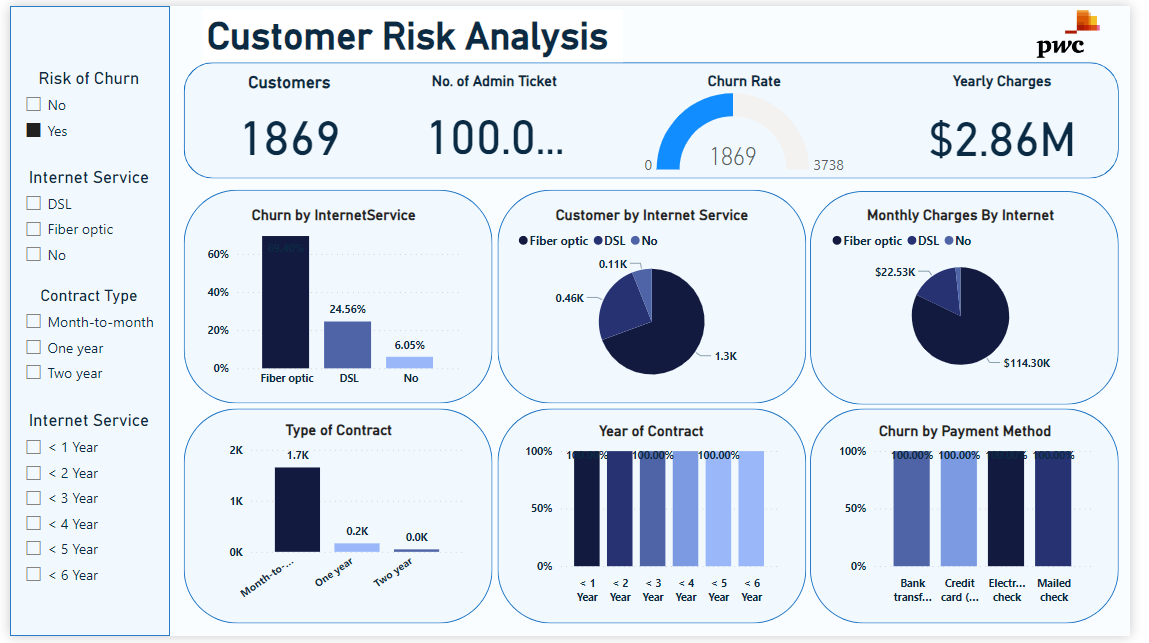

What the dashboard file says about the page in this screenshot:
{"tool":"powerbi","page":{"name":"Customer Risk Analysis","canvas":[1280,720],"ordinal":3},"visuals":[{"type":"shape","box":[198.6,210,352.9,244.3],"z":0},{"type":"shape","box":[198.6,64.3,1068.6,132.9],"z":1000},{"type":"shape","box":[0,0,182.9,720],"z":2000},{"type":"textbox","box":[220,4.3,480,60],"z":3000},{"type":"image","box":[1161.4,0,95.7,64.3],"z":4000},{"type":"card","title":"Customers","fields":{"Values":["CountNonNull(Churn.Customer_ID)"]},"box":[241.4,75.7,155.7,121.4],"z":5000},{"type":"card","title":"No. of Admin Ticket","fields":{"Values":["KPI_Churn.Churn Rate"]},"box":[457,75.7,192.9,121.4],"z":6000},{"type":"card","title":"Yearly Charges","fields":{"Values":["Sum(Churn.TotalCharges)"]},"box":[1028.2,75.6,210.4,121],"z":7000},{"type":"slicer","title":"Risk  of Churn","fields":{"Values":["Churn.Churn"]},"box":[5.7,71.4,168.6,90],"z":8000},{"type":"slicer","title":"Contract Type","fields":{"Values":["Churn.Contract"]},"box":[5.7,320,168.6,142.9],"z":9000},{"type":"gauge","title":"Churn Rate","fields":{"Y":["CountNonNull(Churn.Churn)"]},"box":[709.8,75.7,258.6,121.4],"z":10000},{"type":"columnChart","title":"Churn by InternetService","fields":{"Y":["CountNonNull(Churn.Churn)"],"Category":["Churn.InternetService"]},"box":[220,228.6,300,215.7],"z":11000},{"type":"shape","box":[198.6,460,352.9,245.7],"z":12000},{"type":"shape","box":[556.4,210,352.9,244.3],"z":13000},{"type":"shape","box":[914.3,211.4,352.9,244.3],"z":14000},{"type":"shape","box":[556.4,460,352.9,245.7],"z":15000},{"type":"shape","box":[914.3,460,352.9,245.7],"z":16000},{"type":"pieChart","title":"Customer by Internet Service","fields":{"Category":["Churn.InternetService"],"Y":["CountNonNull(Churn.Customer_ID)"]},"box":[575.7,228.6,315.7,215.7],"z":17000},{"type":"pieChart","title":"Monthly Charges By Internet","fields":{"Y":["Sum(Churn.MonthlyCharges)"],"Category":["Churn.InternetService"]},"box":[934.3,228.6,304.3,202.9],"z":18000},{"type":"columnChart","title":"Type of Contract","fields":{"Y":["CountNonNull(Churn.Churn)"],"Category":["Churn.Contract"]},"box":[225.7,474.3,300,215.7],"z":19000},{"type":"columnChart","title":"Year of Contract","fields":{"Y":["KPI_Churn.Churn Rate"],"Category":["Churn.Loyalty"]},"box":[582.9,475.7,300,215.7],"z":20000},{"type":"columnChart","title":"Churn by Payment Method","fields":{"Y":["KPI_Churn.Churn Rate"],"Category":["Churn.PaymentMethod"]},"box":[941.4,475.7,300,215.7],"z":21000},{"type":"slicer","title":"Internet Service","fields":{"Values":["Churn.InternetService"]},"box":[5.7,184.3,168.6,121.4],"z":22000},{"type":"slicer","title":"Internet Service","fields":{"Values":["Churn.Loyalty"]},"box":[5.7,462.9,168.6,208.6],"z":23000}]}

Visuals, with their boxes in screenshot pixels (x1, y1, x2, y2), scaled from the page's 1280x720 canvas onto the 1149x643 screenshot:
shape: <bbox>178, 188, 495, 406</bbox>
shape: <bbox>178, 57, 1138, 176</bbox>
shape: <bbox>0, 0, 164, 642</bbox>
textbox: <bbox>197, 4, 628, 57</bbox>
image: <bbox>1043, 0, 1128, 57</bbox>
"Customers" card: <bbox>217, 68, 356, 176</bbox>
"No. of Admin Ticket" card: <bbox>410, 68, 583, 176</bbox>
"Yearly Charges" card: <bbox>923, 68, 1112, 176</bbox>
"Risk  of Churn" slicer: <bbox>5, 64, 156, 144</bbox>
"Contract Type" slicer: <bbox>5, 286, 156, 413</bbox>
"Churn Rate" gauge: <bbox>637, 68, 869, 176</bbox>
"Churn by InternetService" columnChart: <bbox>197, 204, 467, 397</bbox>
shape: <bbox>178, 411, 495, 630</bbox>
shape: <bbox>499, 188, 816, 406</bbox>
shape: <bbox>821, 189, 1138, 407</bbox>
shape: <bbox>499, 411, 816, 630</bbox>
shape: <bbox>821, 411, 1138, 630</bbox>
"Customer by Internet Service" pieChart: <bbox>517, 204, 800, 397</bbox>
"Monthly Charges By Internet" pieChart: <bbox>839, 204, 1112, 385</bbox>
"Type of Contract" columnChart: <bbox>203, 424, 472, 616</bbox>
"Year of Contract" columnChart: <bbox>523, 425, 793, 617</bbox>
"Churn by Payment Method" columnChart: <bbox>845, 425, 1114, 617</bbox>
"Internet Service" slicer: <bbox>5, 165, 156, 273</bbox>
"Internet Service" slicer: <bbox>5, 413, 156, 600</bbox>
